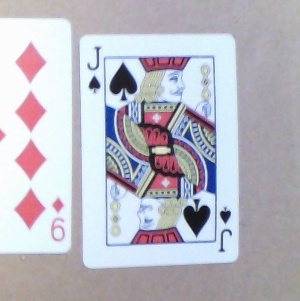card: (79, 32, 239, 269)
